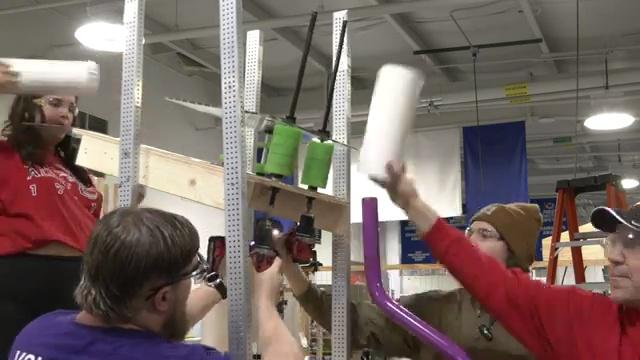CORAL: (356, 60, 425, 181), (0, 57, 99, 94)
